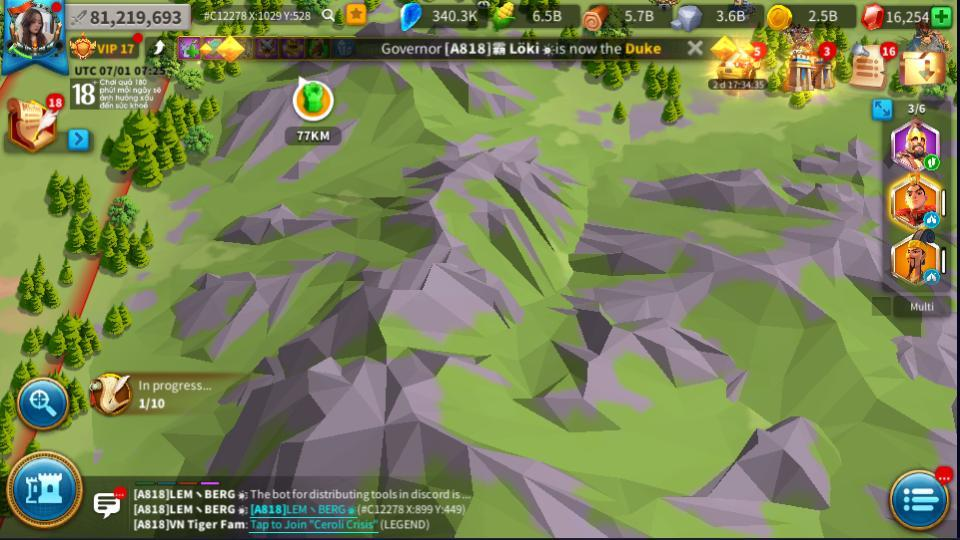march_idle: (924, 271, 939, 283), (923, 213, 938, 225)
march_marching: (923, 156, 938, 169)
